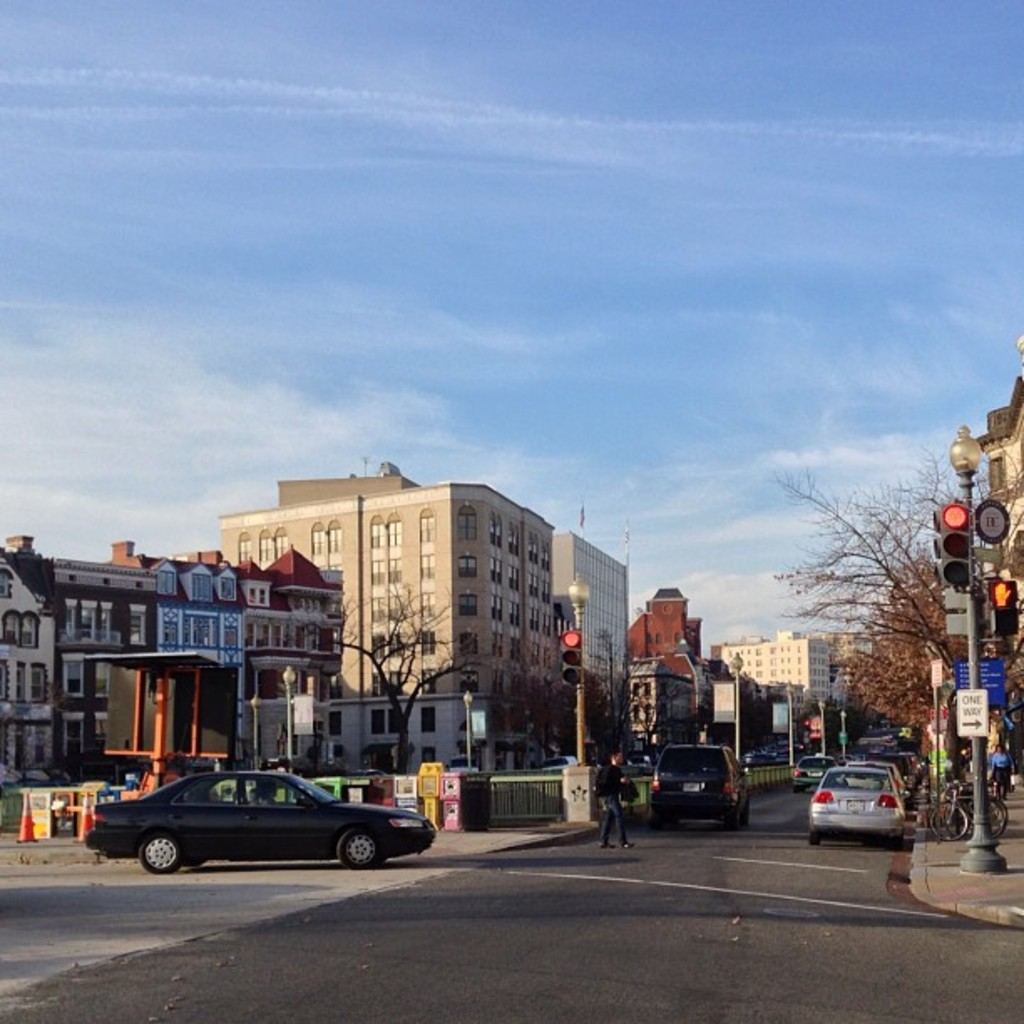Car: (93, 766, 435, 878), (808, 747, 923, 841), (645, 741, 749, 831), (791, 751, 838, 793), (844, 734, 898, 764), (746, 739, 809, 764)
